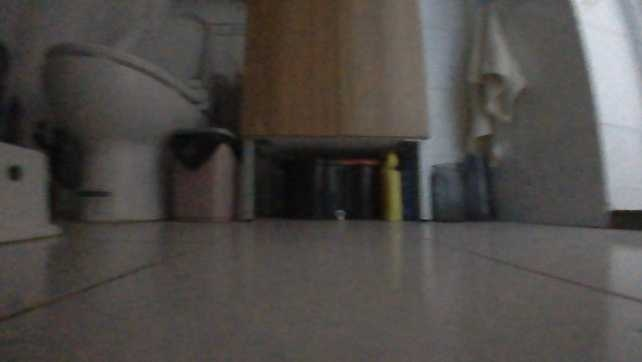toilet: (42, 10, 214, 221)
trash_can: (166, 124, 240, 221)
